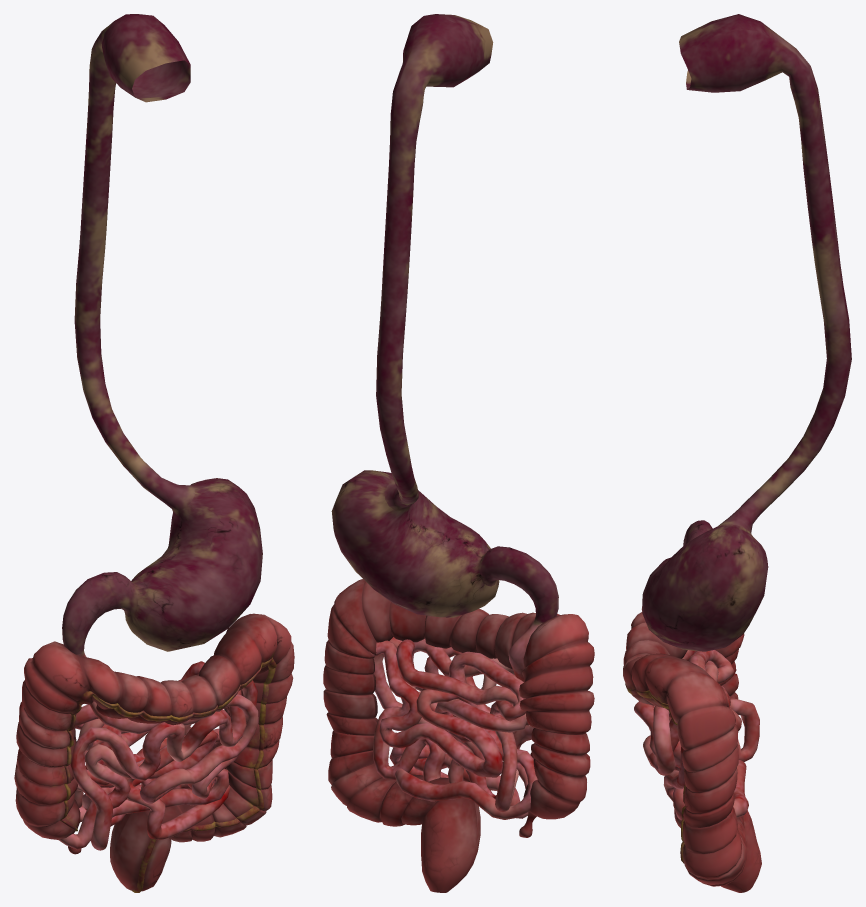
The model's file is Stomach.fbx.
3 views of the same model, side by side, from view 1: azimuth 30°, elevation 25°; view 2: azimuth 150°, elevation 25°; view 3: azimuth 270°, elevation 25° (orthographic).
Visible parts, largest first — view 1: Division_1; view 2: Division_1; view 3: Division_1.
Part boxes in pixels (x1,y1,x2,y2): Division_1: (14,14,294,892); Division_1: (323,14,594,892); Division_1: (623,14,851,892).
Size of the model in its own units: 34.87 by 110 by 26.08.
Materials: 1 (1 with a texture image).
